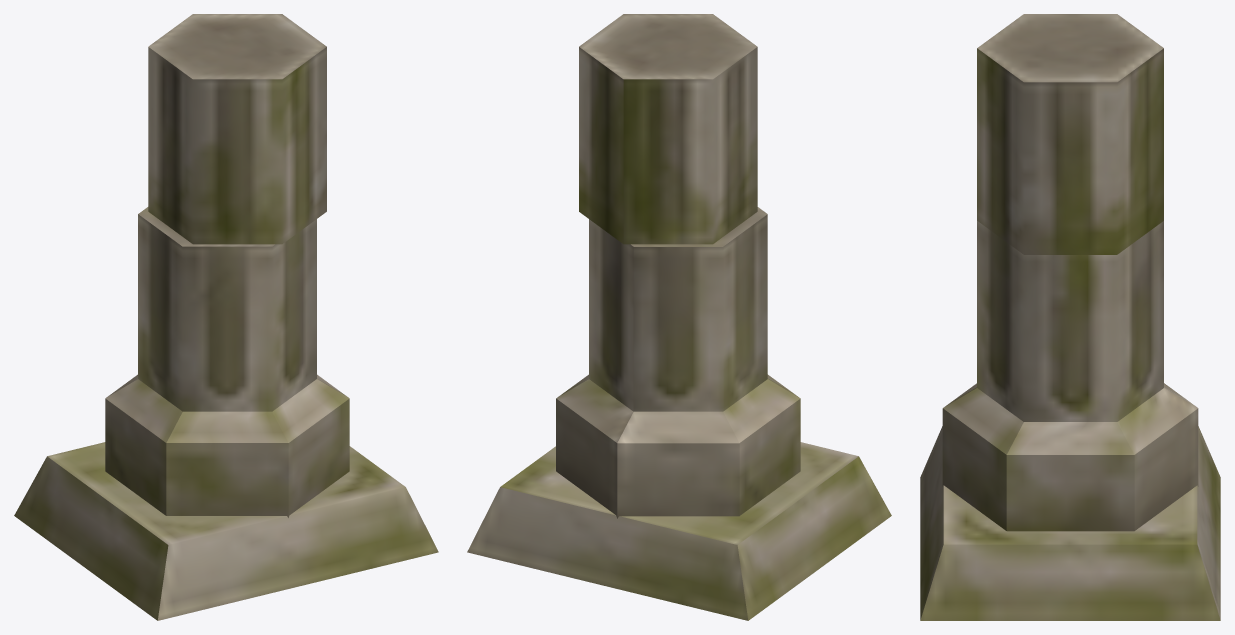
File: swamp_temple_3.FBX
The picture shows the model from 3 angles, left to right: view 1: azimuth 30°, elevation 25°; view 2: azimuth 150°, elevation 25°; view 3: azimuth 270°, elevation 25°; orthographic projection. The views are drawn at different scales.
Parts seen in each view (by area): view 1: swamp_temple_3; view 2: swamp_temple_3; view 3: swamp_temple_3.
Boxes of the visible parts, bbox=[...] form: swamp_temple_3: bbox=[14, 14, 438, 620]; swamp_temple_3: bbox=[467, 14, 891, 620]; swamp_temple_3: bbox=[920, 14, 1220, 620].
Bounding box in the file's own units: 37.43 × 61.64 × 33.12.
